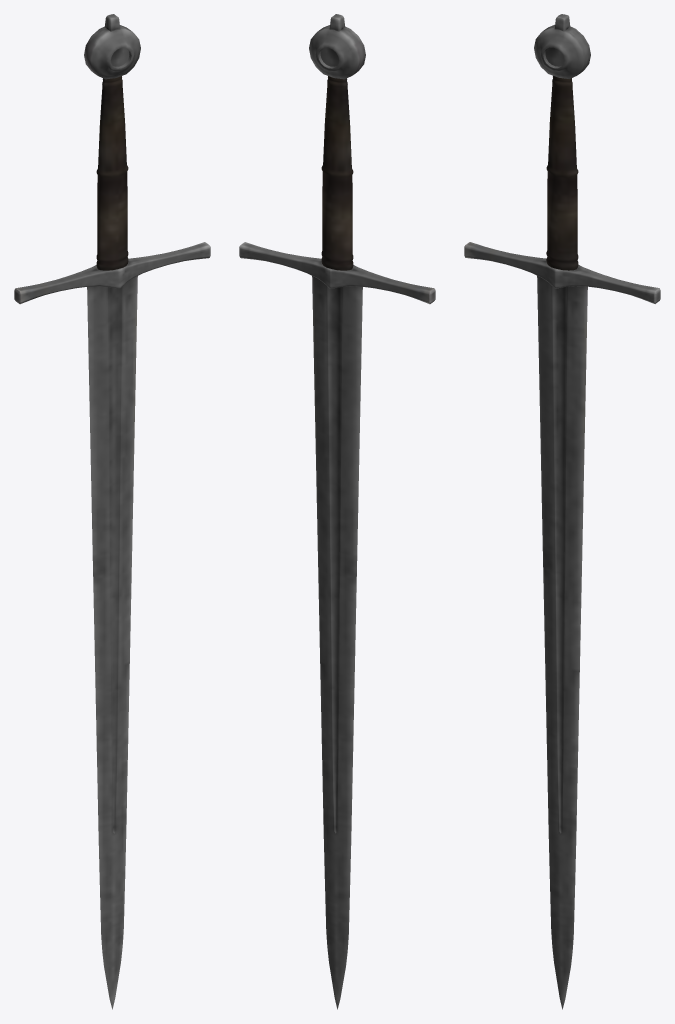
Rendered from weapon-wp_a_0200.glb.
The picture shows the model from 3 angles, left to right: view 1: azimuth 30°, elevation 25°; view 2: azimuth 150°, elevation 25°; view 3: azimuth 330°, elevation 25°; orthographic projection.
Visible parts, largest first — view 1: wp_a_0200_mesh; view 2: wp_a_0200_mesh; view 3: wp_a_0200_mesh.
Boxes of the visible parts, box(x1,y1,x2,y2) form: wp_a_0200_mesh: box(14, 14, 210, 1009); wp_a_0200_mesh: box(239, 14, 435, 1009); wp_a_0200_mesh: box(464, 14, 660, 1009).
Size of the model in its own units: 0.2242 by 1.11 by 0.0356.
1 material, 1 textured.
